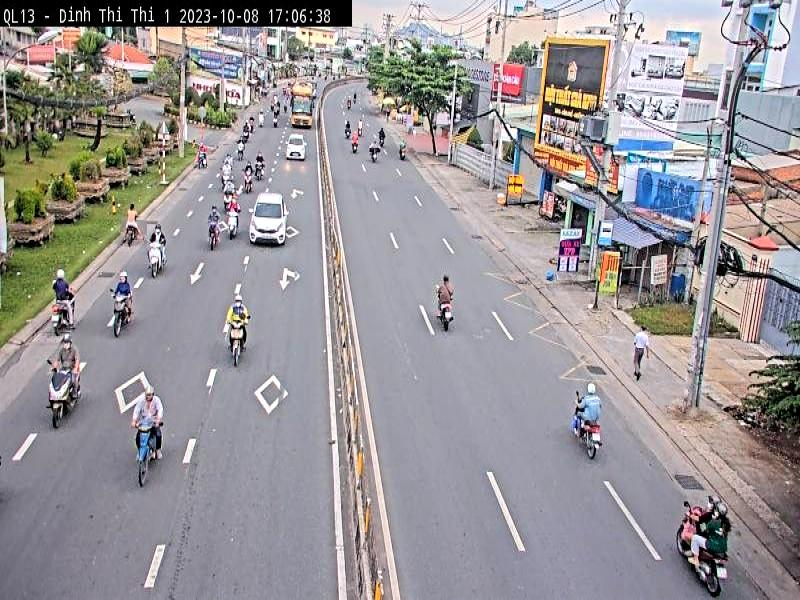car: (241, 183, 299, 272), (286, 128, 318, 178)
motorcycle: (662, 490, 724, 600), (123, 419, 162, 501), (34, 360, 82, 425), (224, 311, 255, 376), (104, 289, 135, 341)
